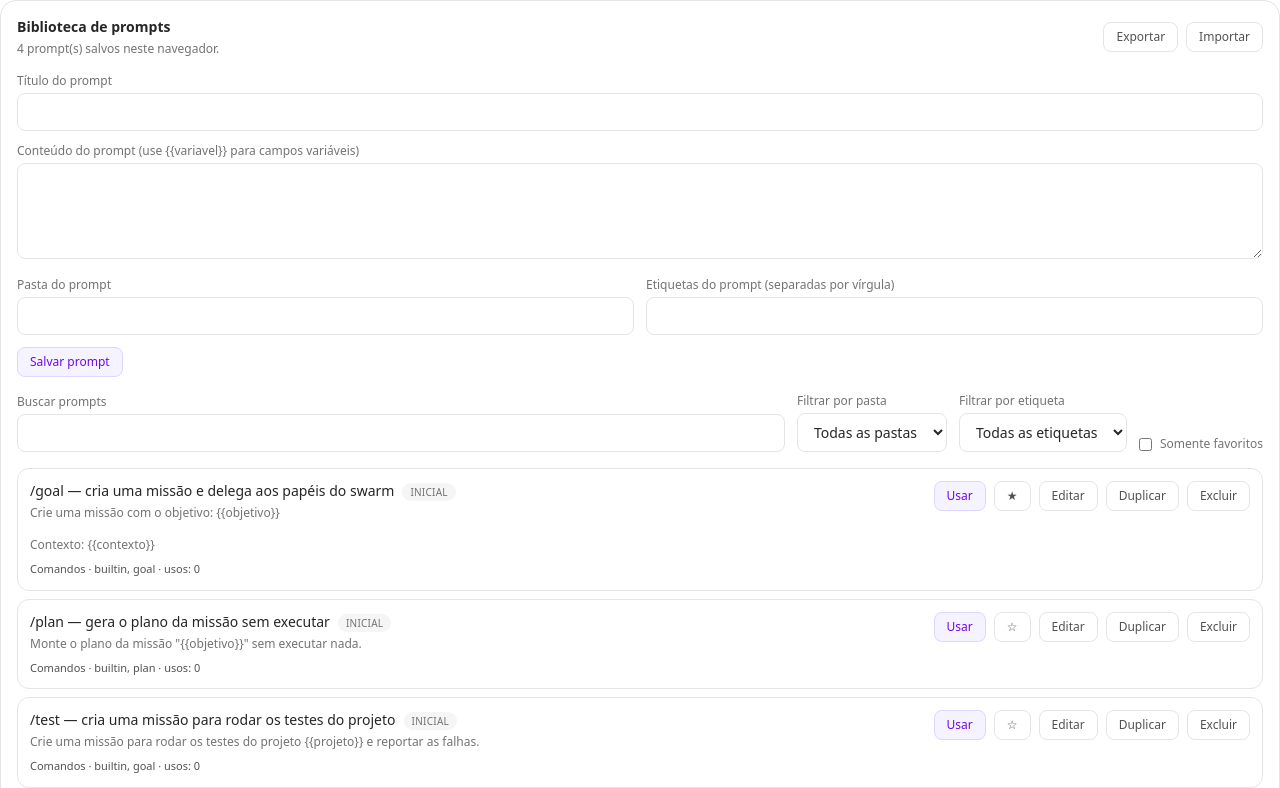
Test: PromptLibraryPanel › explica quando a importação não traz prompt válido
Click the button "Importar" at (1225, 37), box [1186, 22, 1263, 52]
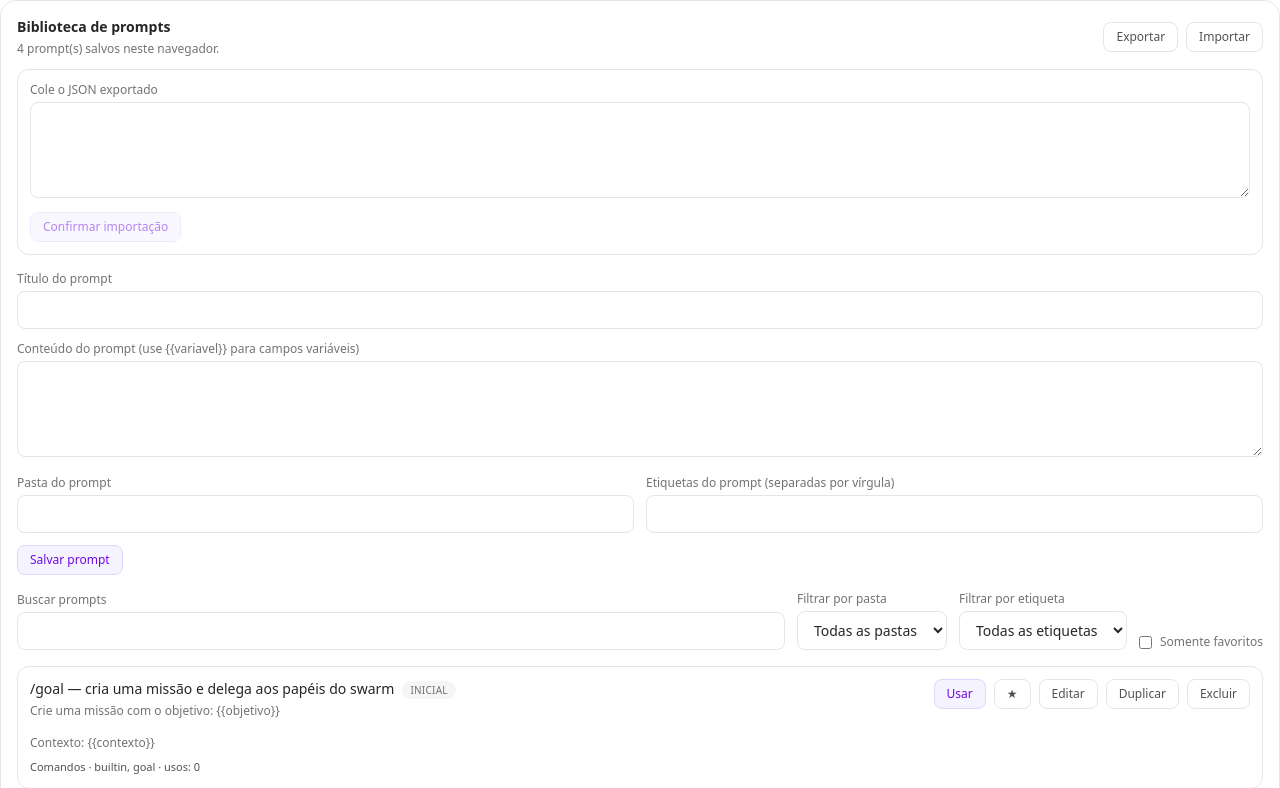
Type "isto não é json" into the text box labelled "Cole o JSON exportado" at (640, 150), box [30, 102, 1250, 198]
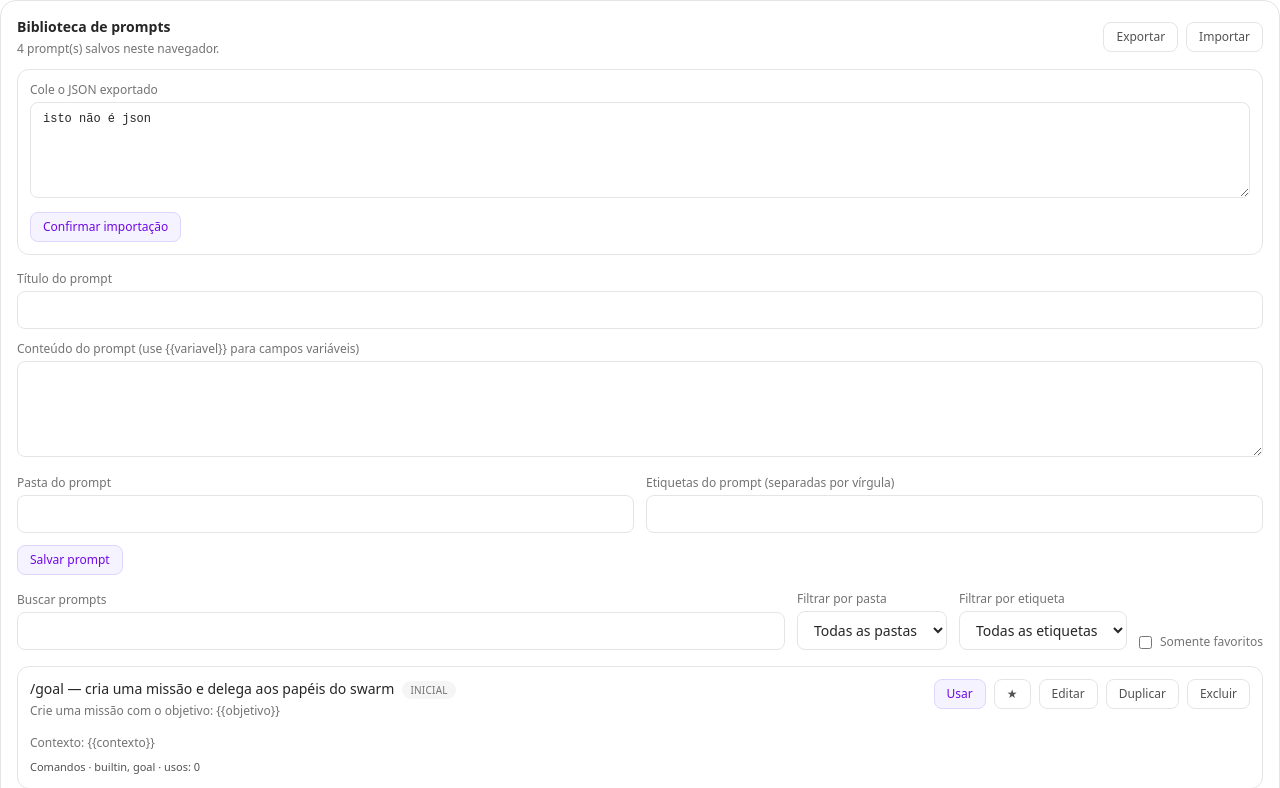
Click the button "Confirmar importação" at (106, 227), box [30, 212, 181, 242]
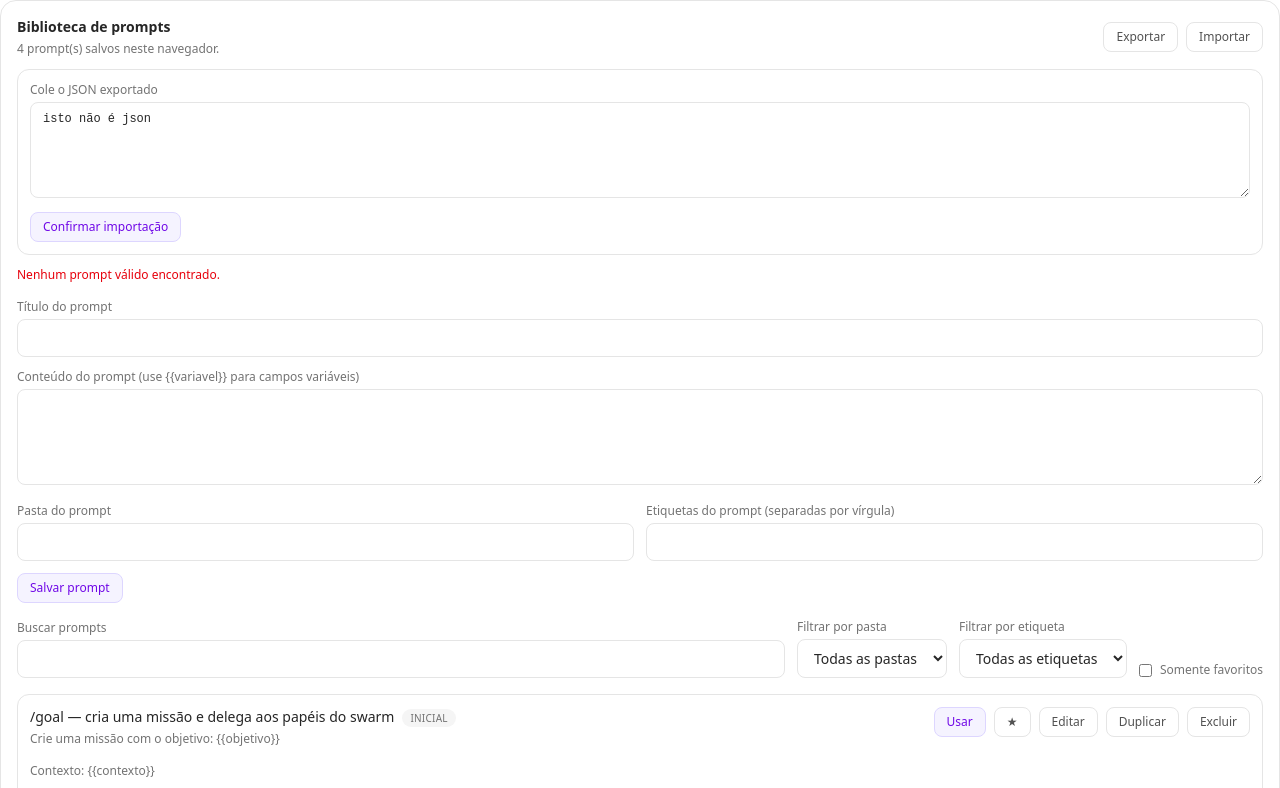
expect the message "Nenhum prompt válido encontrado." is shown: met, box [17, 266, 220, 283]
